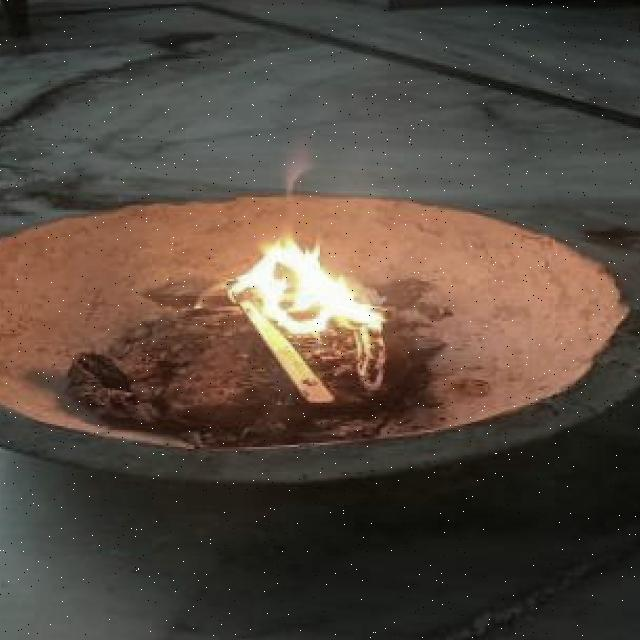fire: (217, 233, 379, 369)
smoke: (264, 147, 328, 220)
